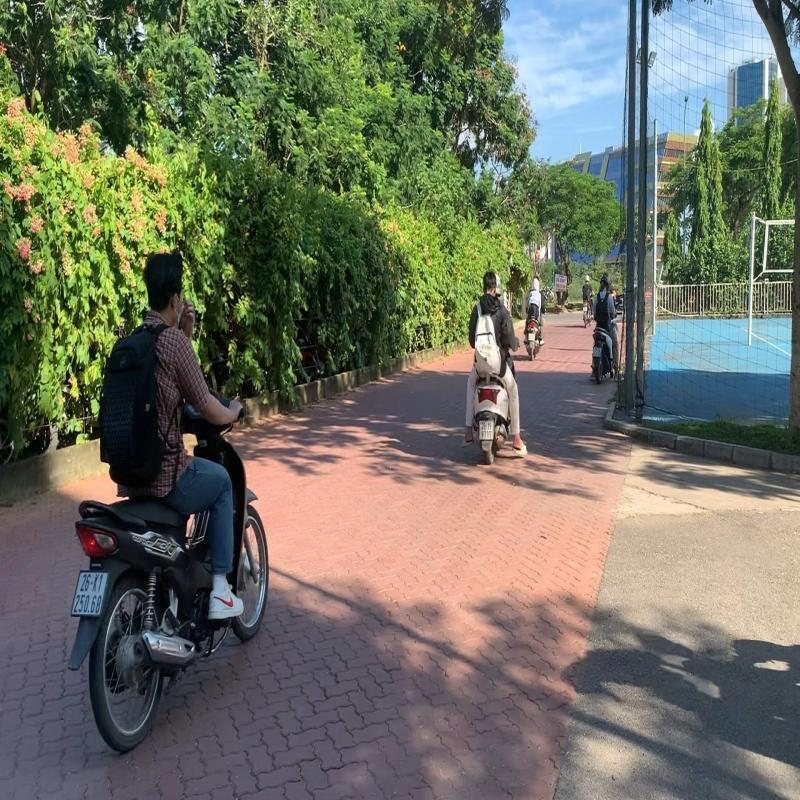helmet: (493, 272, 501, 297)
licenseplate: (68, 564, 110, 620), (478, 417, 494, 443)
motorcyclist: (60, 240, 276, 760), (460, 271, 530, 466)
nohelmet: (140, 246, 188, 322), (482, 272, 496, 294)
